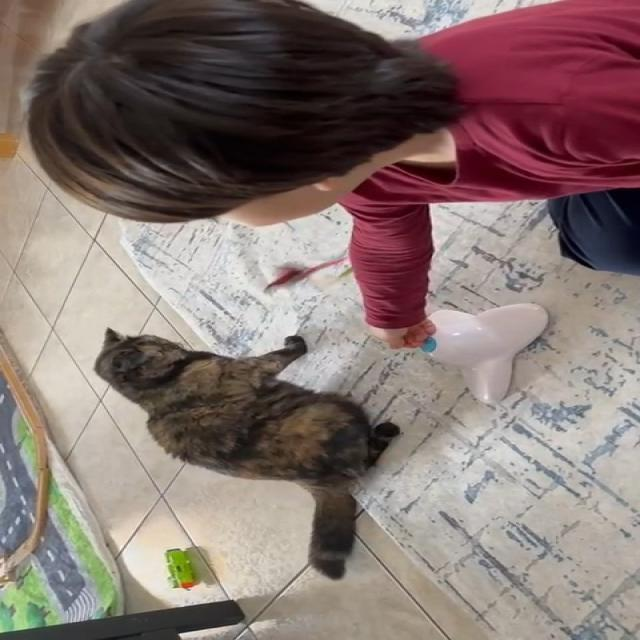authorized: (92, 326, 401, 580)
